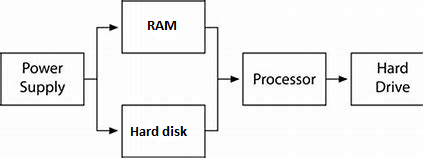arrow: (80, 77, 120, 135), (81, 22, 117, 81), (204, 26, 240, 84), (204, 76, 239, 134), (324, 74, 347, 83)
process: (1, 49, 87, 108), (241, 50, 328, 108), (119, 103, 209, 158), (119, 1, 207, 55), (348, 51, 423, 108)
text: (19, 60, 67, 97), (373, 60, 412, 94), (252, 71, 317, 87), (129, 124, 188, 139), (146, 19, 178, 32)
